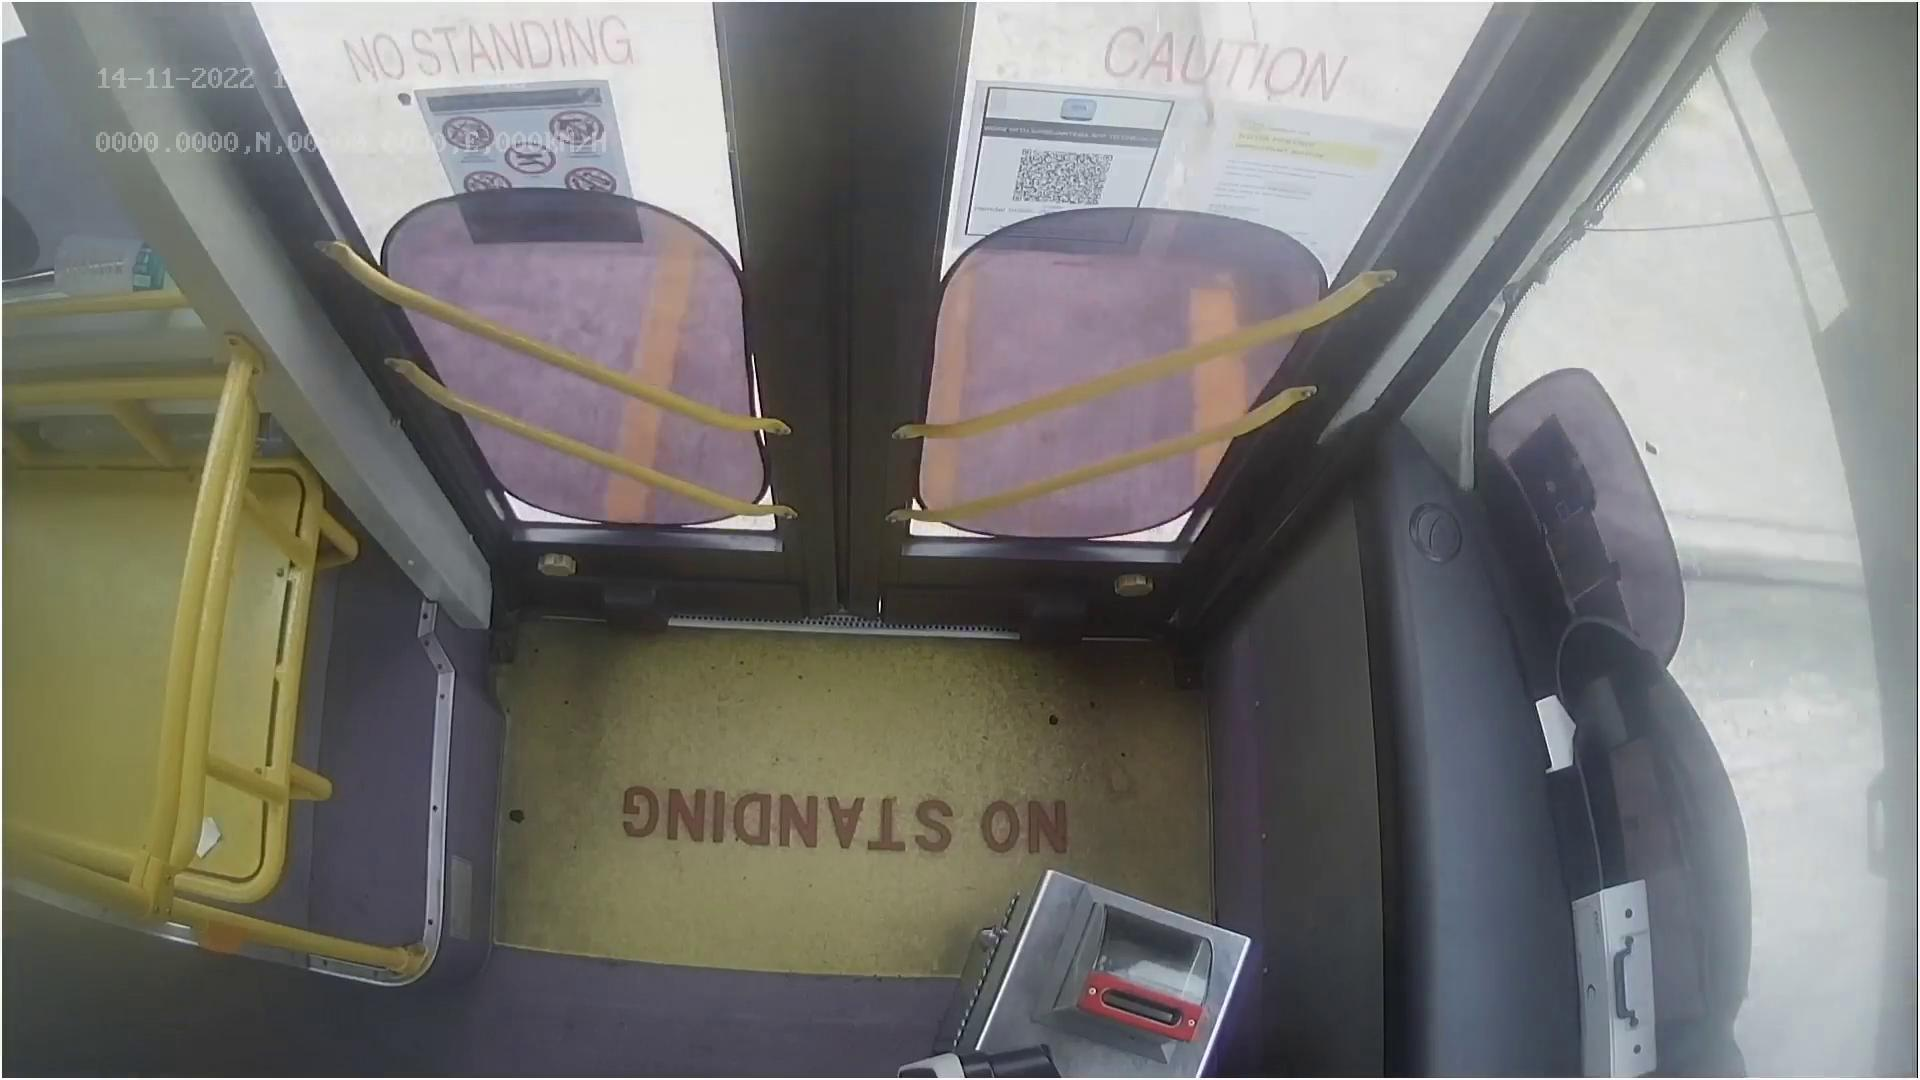close: (286, 0, 1448, 164)
